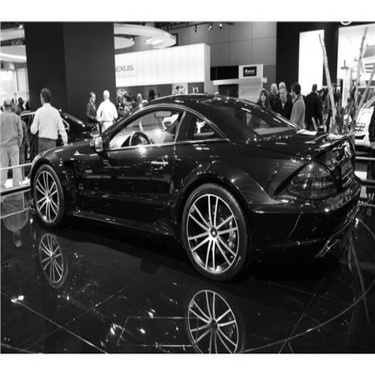car: (17, 84, 368, 291), (5, 98, 96, 189), (321, 85, 374, 151), (331, 23, 373, 96)
